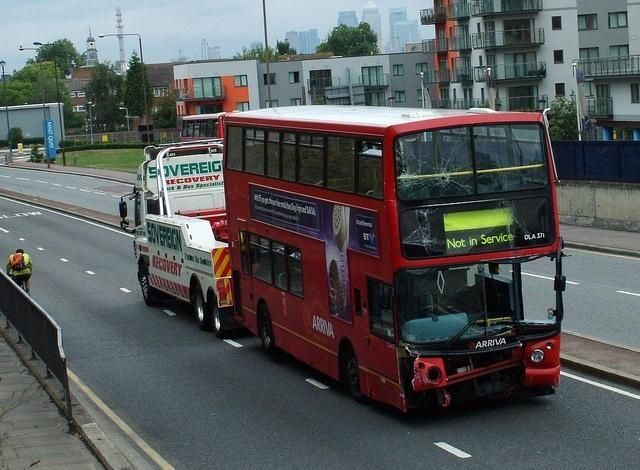bicycle: (20, 280, 28, 294)
bus: (217, 104, 576, 419)
truck: (119, 141, 237, 341)
